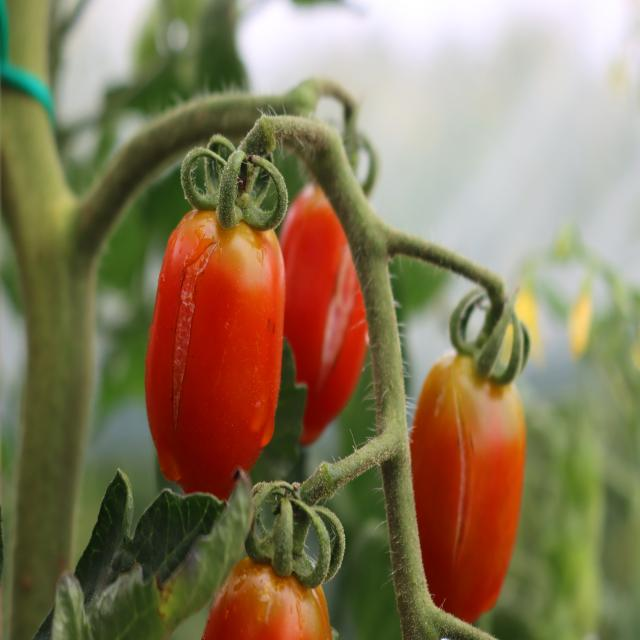damaged: (148, 165, 287, 488), (415, 328, 533, 622)
